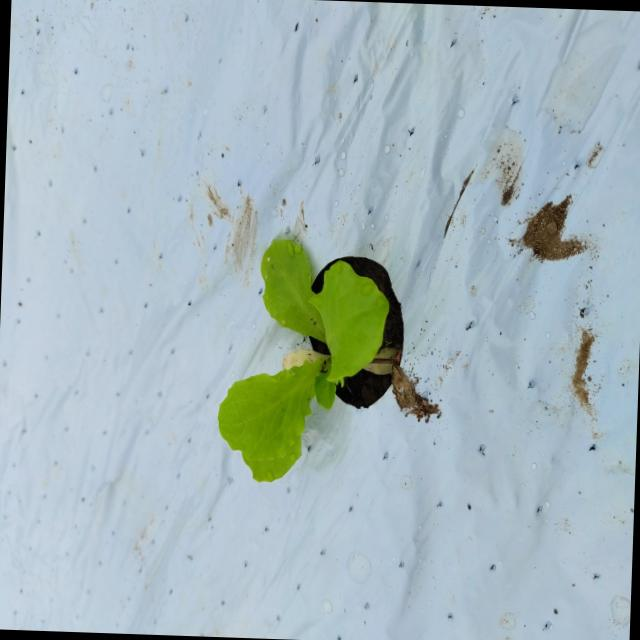Lettuce-Not-Ready-to-Harvest: (220, 230, 400, 480)
